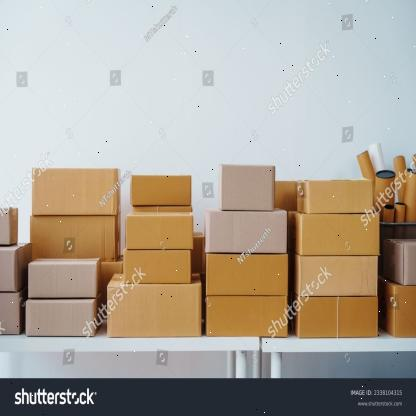box: (108, 284, 201, 338), (32, 167, 117, 216), (30, 217, 115, 260), (205, 210, 288, 254), (206, 253, 288, 296), (300, 213, 380, 257), (206, 296, 289, 338), (299, 296, 378, 340), (298, 256, 379, 296), (28, 260, 97, 299), (25, 299, 95, 337), (125, 213, 194, 250), (221, 164, 274, 211), (123, 250, 191, 284), (308, 179, 374, 214), (131, 176, 193, 207)
